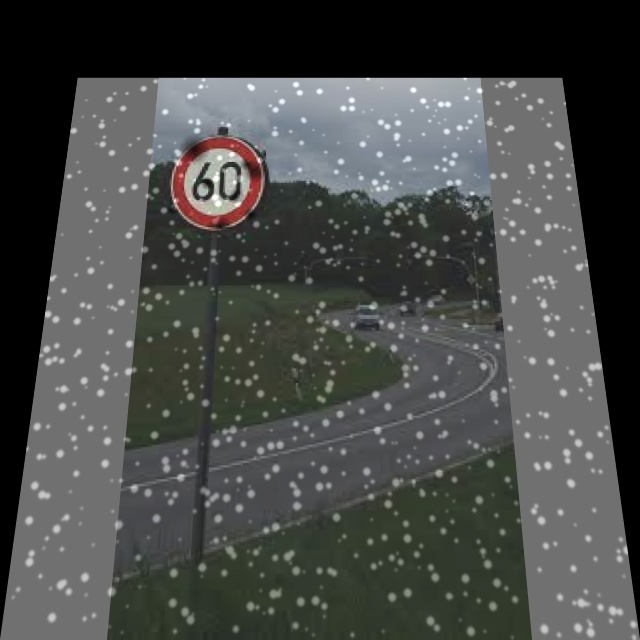Speed_Limit_60: (166, 133, 266, 229)
